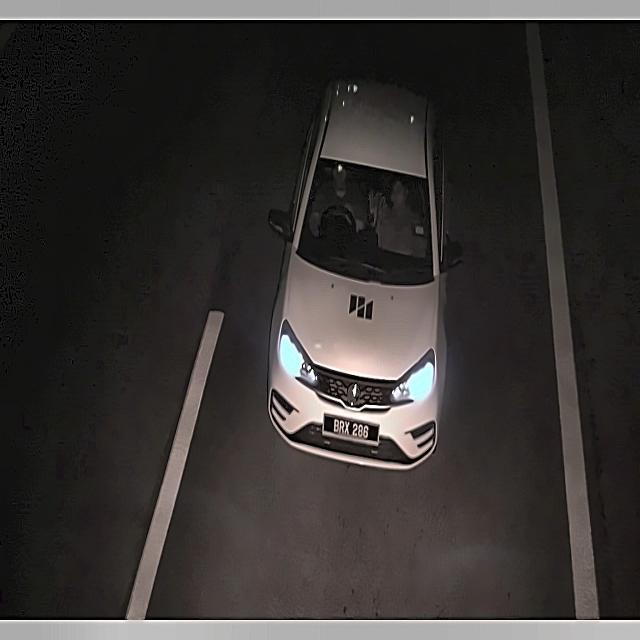car: (321, 410, 376, 447)
